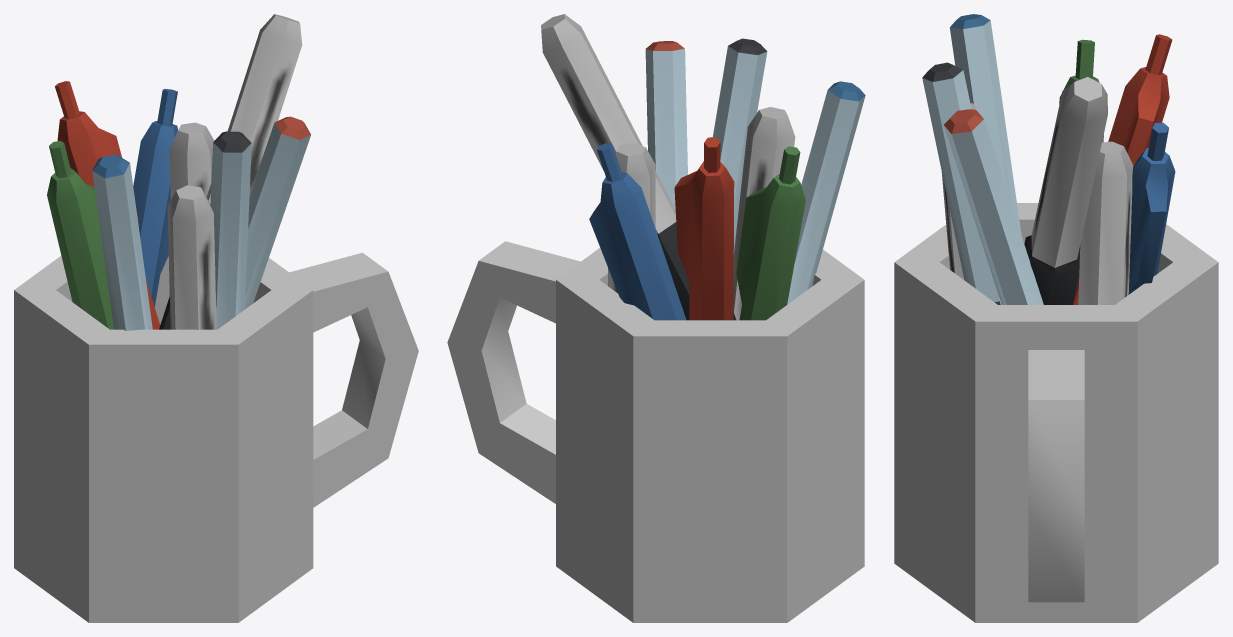
The model's file is ly_butchi.fbx.
3 views of the same model, side by side, from view 1: azimuth 30°, elevation 25°; view 2: azimuth 150°, elevation 25°; view 3: azimuth 270°, elevation 25° (orthographic). The views are drawn at different scales.
Visible parts, largest first — view 1: Cup, pen3_blue, pen1_green, pen3_black, pen2_red, pen2_black, pen3_red, pen1_blue, pen1_red, pen2_blue; view 2: Cup, pen2_black, pen1_red, pen1_blue, pen1_green, pen3_blue, pen3_red, pen3_black, pen2_red, pen2_blue; view 3: Cup, pen2_black, pen3_red, pen2_blue, pen3_black, pen1_blue, pen3_blue, pen1_red, pen1_green, pen2_red.
Part boxes in pixels (box(x1,y1,x2,y2)): Cup: box(14, 252, 418, 622); pen3_blue: box(92, 154, 152, 330); pen1_green: box(47, 141, 113, 329); pen3_black: box(210, 131, 251, 329); pen2_red: box(167, 185, 216, 329); pen2_black: box(159, 14, 302, 329); pen3_red: box(244, 116, 310, 309); pen1_blue: box(133, 89, 177, 306); pen1_red: box(55, 81, 160, 329); pen2_blue: box(169, 122, 214, 199); Cup: box(447, 241, 864, 622); pen2_black: box(541, 14, 736, 320); pen1_red: box(674, 137, 734, 320); pen1_blue: box(589, 143, 686, 320); pen1_green: box(736, 146, 805, 320); pen3_blue: box(787, 81, 865, 304); pen3_red: box(645, 41, 687, 209); pen3_black: box(713, 38, 767, 251); pen2_red: box(733, 107, 795, 320); pen2_blue: box(608, 142, 655, 293); Cup: box(894, 203, 1218, 622); pen2_black: box(1024, 77, 1107, 304); pen3_red: box(944, 109, 1043, 304); pen2_blue: box(1078, 141, 1133, 304); pen3_black: box(922, 62, 1001, 304); pen1_blue: box(1128, 122, 1175, 294); pen3_blue: box(949, 14, 1021, 234); pen1_red: box(1073, 34, 1172, 304); pen1_green: box(1059, 39, 1103, 142); pen2_red: box(941, 103, 987, 279).
Bounding box in the file's own units: 57.86 × 79.74 × 42.3.
10 materials, 10 textured.
